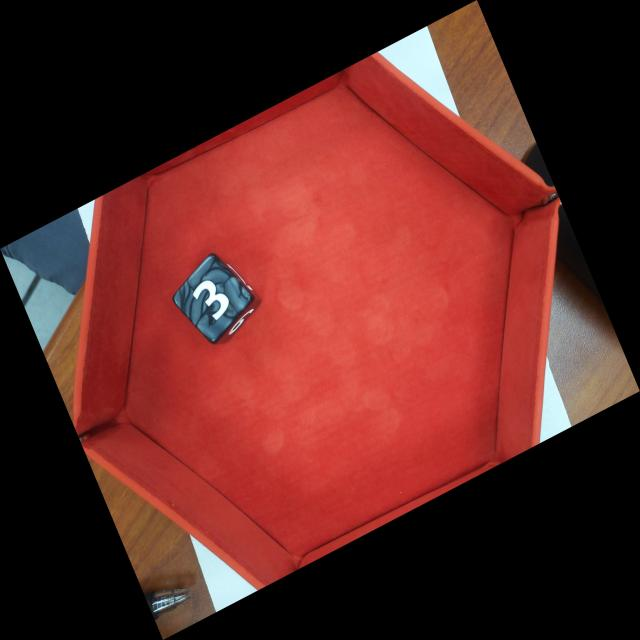dice: (167, 250, 254, 345)
